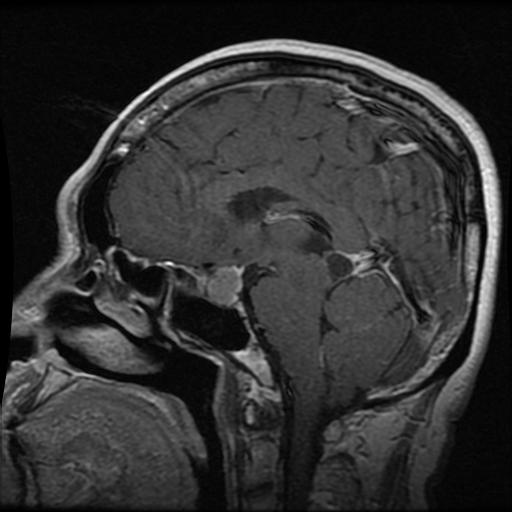Pituirity_tumour: (206, 265, 243, 300)
